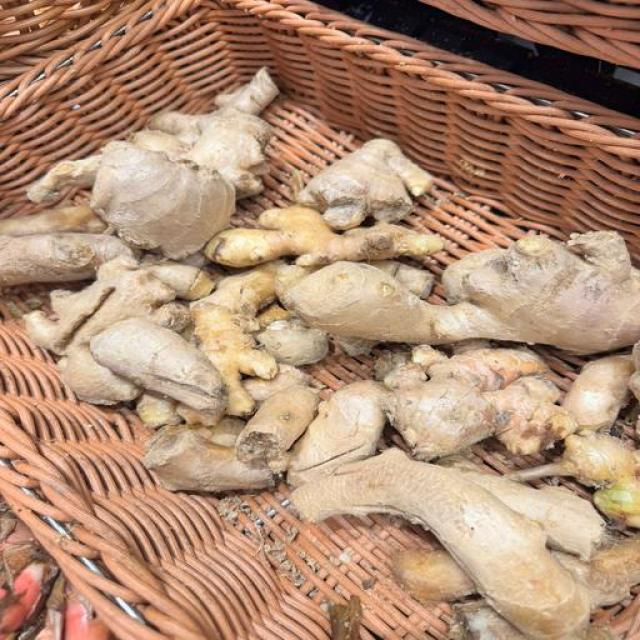organic: (0, 1, 640, 640), (0, 0, 639, 274), (422, 0, 639, 68)
